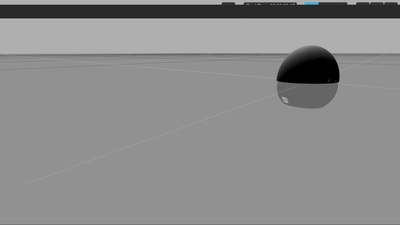mira_robot: (277, 46, 340, 109)
